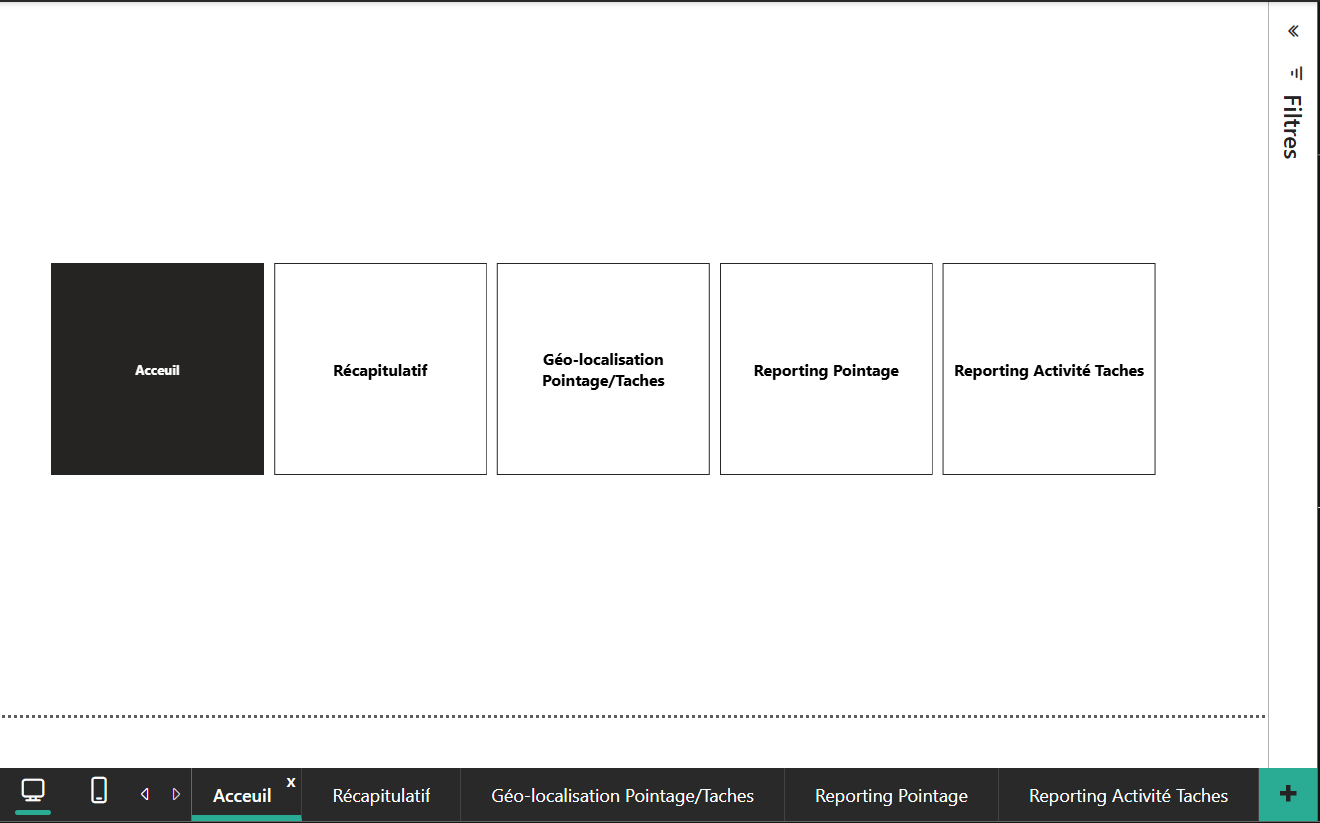

Layout of this report page (visuals, bound fields, positions):
{"tool":"powerbi","page":{"name":"Acceuil","canvas":[1280,720],"ordinal":0},"visuals":[{"type":"pageNavigator","box":[52,263.5,1119.1,214.7],"z":0}]}

Visuals, with their boxes on the page's 1280x720 design canvas (x1, y1, x2, y2). These are canvas units, not pixel positions in the 1320x823 screenshot, which may show the page scaled, cropped or inside an application window:
pageNavigator: [52,264,1171,478]
